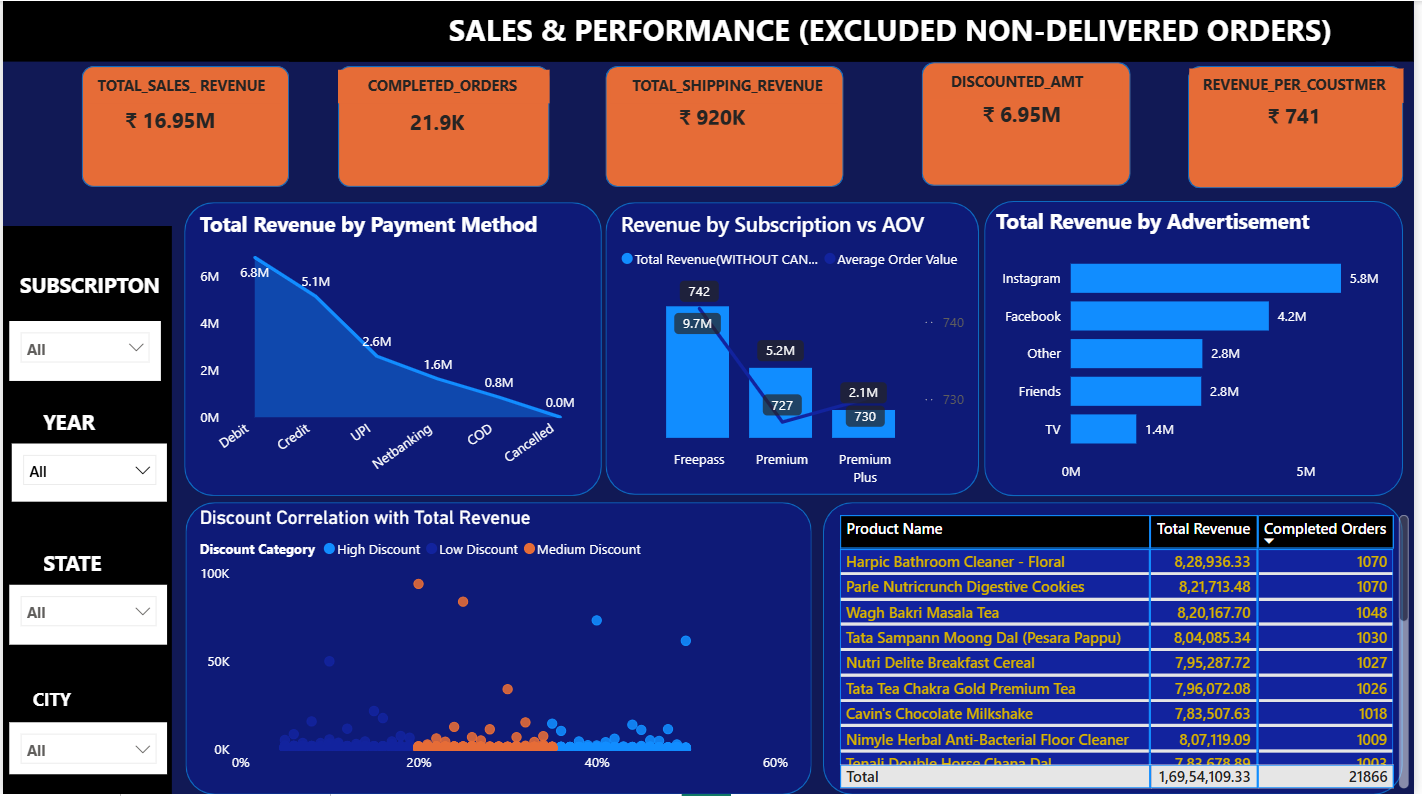

The page's visual inventory and layout, read from the dashboard file:
{"tool":"powerbi","page":{"name":"SALES&PERFORMANCE ","canvas":[1280,720],"ordinal":1},"visuals":[{"type":"shape","box":[0,203.9,153.2,516.4],"z":0},{"type":"shape","box":[165.3,454.8,568.2,265.4],"z":1000},{"type":"shape","box":[0,0,1280,55],"z":2000},{"type":"shape","box":[71.2,59.1,188.2,109.8],"z":3000},{"type":"textbox","box":[259.4,2.4,985.7,53.1],"z":4000},{"type":"textbox","box":[77.2,62.7,174.9,30.2],"z":5000},{"type":"cardVisual","fields":{"Data":["Dmart.Total Revenue(WITHOUT CANCELLED ORDERS)"]},"box":[82,79.6,142.4,54.3],"z":6000},{"type":"shape","box":[304,59.1,191.8,109.8],"z":7000},{"type":"textbox","box":[304,62.7,191.8,30.2],"z":8000},{"type":"cardVisual","fields":{"Data":["Dmart.Completed Orders"]},"box":[340.2,82,115.8,53.1],"z":9000},{"type":"shape","box":[546.5,59.1,216,109.8],"z":10000},{"type":"textbox","box":[551.3,62.7,206.3,30.2],"z":11000},{"type":"cardVisual","fields":{"Data":["Sum(Dmart.Shipping Charges)"]},"box":[583.9,78.4,123.1,51.9],"z":12000},{"type":"shape","box":[833.7,55.5,189.4,112.2],"z":13000},{"type":"textbox","box":[840.9,59.1,174.9,30.2],"z":14000},{"type":"cardVisual","fields":{"Data":["Dmart.Total Discount Amount"]},"box":[860.2,74.8,136.3,53.1],"z":15000},{"type":"shape","box":[1074.9,59.1,195.4,111],"z":16000},{"type":"textbox","box":[1076.1,61.5,194.2,31.4],"z":17000},{"type":"cardVisual","fields":{"Data":["Dmart.Revenue per Customer"]},"box":[1118.4,77.2,111,51.9],"z":18000},{"type":"shape","box":[164.1,182.2,378.8,266.6],"z":19000},{"type":"shape","box":[546.5,182.2,339,265.4],"z":20000},{"type":"shape","box":[890.4,181,380,267.8],"z":21000},{"type":"lineStackedColumnComboChart","title":"Revenue by Subscription vs AOV","fields":{"Y":["Dmart.Total Revenue(WITHOUT CANCELLED ORDERS)"],"Y2":["Dmart.Average Order Value"],"Category":["Dmart.Subscription"]},"box":[556.2,189.4,322.1,258.2],"z":22000},{"type":"shape","box":[744.4,454.8,526,265.4],"z":23000},{"type":"slicer","fields":{"Values":["DateTable.Year"]},"box":[8.4,401.7,141.2,53.1],"z":24000},{"type":"slicer","fields":{"Values":["Dmart.City"]},"box":[6,653.9,143.6,47.1],"z":25000},{"type":"slicer","fields":{"Values":["Dmart.State"]},"box":[6,529.6,143.6,54.3],"z":26000},{"type":"textbox","box":[6,492.2,119.4,37.4],"z":27000},{"type":"textbox","box":[6,364.3,119.4,37.4],"z":28000},{"type":"textbox","box":[0,616.5,165.3,37.4],"z":29000},{"type":"slicer","fields":{"Values":["Dmart.Subscription"]},"box":[6,290.8,137.5,54.3],"z":30000},{"type":"textbox","box":[0,240.1,155.6,37.4],"z":31000},{"type":"areaChart","title":"Total Revenue by Payment Method","fields":{"Category":["Dmart.Payment Method"],"Y":["Dmart.Total Revenue(WITHOUT CANCELLED ORDERS)"]},"box":[173.7,189.4,359.5,259.4],"z":32000},{"type":"clusteredBarChart","title":"Total Revenue by Advertisement","fields":{"Category":["Dmart.Marketing/Advertisement"],"Y":["Dmart.Total Revenue(WITHOUT CANCELLED ORDERS)"]},"box":[896.4,187,369.2,258.2],"z":33000},{"type":"scatterChart","title":"Discount Correlation with Total Revenue","fields":{"Y":["Dmart.Total Revenue(WITHOUT CANCELLED ORDERS)"],"Series":["Dmart.Discount Category"],"X":["Dmart.Discount Percentage "]},"box":[173.7,458.4,544.1,250.9],"z":34000},{"type":"tableEx","fields":{"Values":["Dmart.Product Name","Dmart.Total Revenue(WITHOUT CANCELLED ORDERS)","Dmart.Completed Orders"]},"box":[752.8,462.1,527.2,258.2],"z":35000}]}

Visuals, with their boxes in screenshot pixels (x1, y1, x2, y2), scaled from the page's 1280x720 canvas onto the 1422x796 screenshot:
shape: Rect(0, 225, 170, 795)
shape: Rect(184, 503, 815, 795)
shape: Rect(0, 0, 1421, 61)
shape: Rect(79, 65, 288, 187)
textbox: Rect(288, 3, 1383, 61)
textbox: Rect(86, 69, 280, 103)
cardVisual - Dmart.Total Revenue(WITHOUT CANCELLED ORDERS): Rect(91, 88, 249, 148)
shape: Rect(338, 65, 551, 187)
textbox: Rect(338, 69, 551, 103)
cardVisual - Dmart.Completed Orders: Rect(378, 91, 507, 149)
shape: Rect(607, 65, 847, 187)
textbox: Rect(612, 69, 842, 103)
cardVisual - Sum(Dmart.Shipping Charges): Rect(649, 87, 785, 144)
shape: Rect(926, 61, 1137, 185)
textbox: Rect(934, 65, 1128, 99)
cardVisual - Dmart.Total Discount Amount: Rect(956, 83, 1107, 141)
shape: Rect(1194, 65, 1411, 188)
textbox: Rect(1195, 68, 1411, 103)
cardVisual - Dmart.Revenue per Customer: Rect(1242, 85, 1366, 143)
shape: Rect(182, 201, 603, 496)
shape: Rect(607, 201, 984, 495)
shape: Rect(989, 200, 1411, 496)
"Revenue by Subscription vs AOV" lineStackedColumnComboChart: Rect(618, 209, 976, 495)
shape: Rect(827, 503, 1411, 795)
slicer - DateTable.Year: Rect(9, 444, 166, 503)
slicer - Dmart.City: Rect(7, 723, 166, 775)
slicer - Dmart.State: Rect(7, 586, 166, 646)
textbox: Rect(7, 544, 139, 586)
textbox: Rect(7, 403, 139, 444)
textbox: Rect(0, 682, 184, 723)
slicer - Dmart.Subscription: Rect(7, 321, 159, 382)
textbox: Rect(0, 265, 173, 307)
"Total Revenue by Payment Method" areaChart: Rect(193, 209, 592, 496)
"Total Revenue by Advertisement" clusteredBarChart: Rect(996, 207, 1406, 492)
"Discount Correlation with Total Revenue" scatterChart: Rect(193, 507, 797, 784)
tableEx - Dmart.Product Name x Dmart.Total Revenue(WITHOUT CANCELLED ORDERS): Rect(836, 511, 1421, 795)
